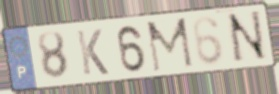6: (191, 14, 226, 68), (115, 23, 147, 75)
8: (36, 30, 69, 83)
K: (75, 28, 111, 78)
M: (144, 16, 196, 75)
N: (225, 9, 270, 66)
